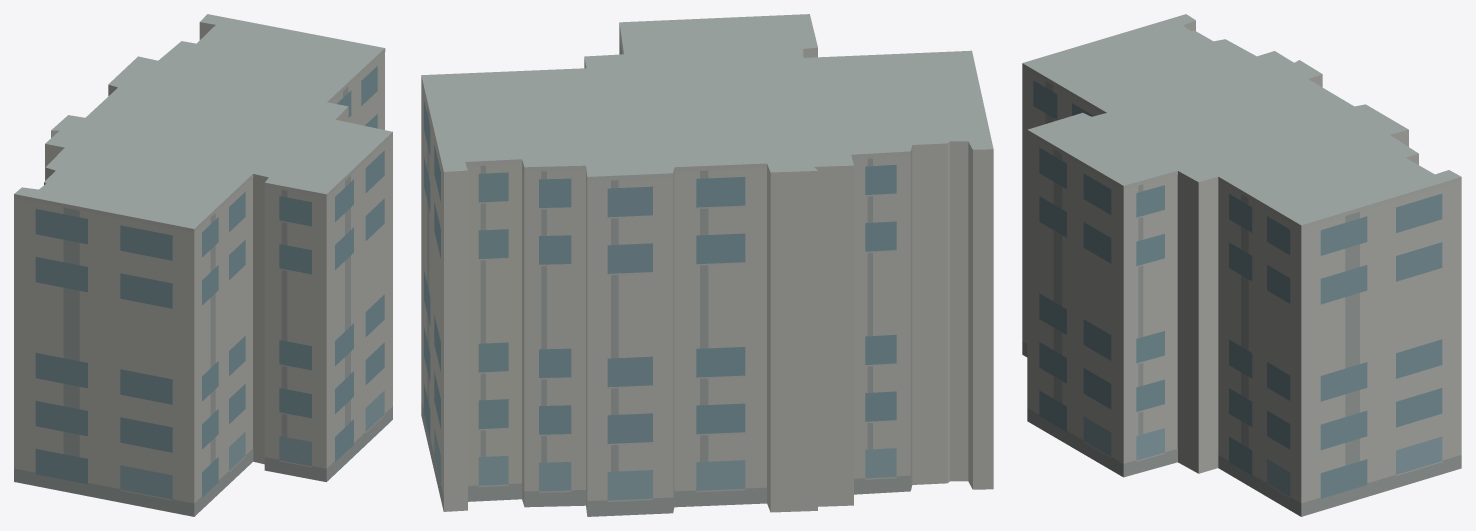
Rendered from survey-upis-32472466.glb.
3 renders of one model, left to right at view 1: azimuth 30°, elevation 25°; view 2: azimuth 150°, elevation 25°; view 3: azimuth 270°, elevation 25°, orthographic. The views are drawn at different scales.
Visible parts, largest first — view 1: survey-upis-32472466.tmp; view 2: survey-upis-32472466.tmp; view 3: survey-upis-32472466.tmp.
Part boxes in pixels (bbox=[...]): survey-upis-32472466.tmp: bbox=[14, 14, 392, 516]; survey-upis-32472466.tmp: bbox=[421, 14, 993, 516]; survey-upis-32472466.tmp: bbox=[1022, 14, 1461, 516].
Bounding box in the file's own units: 27.84 × 17.9 × 24.46.
